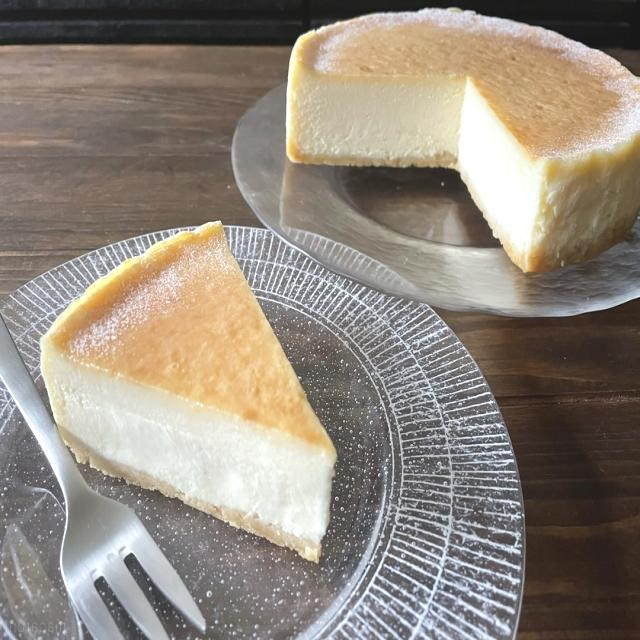cheesecake: (40, 217, 338, 564), (285, 6, 639, 274)
